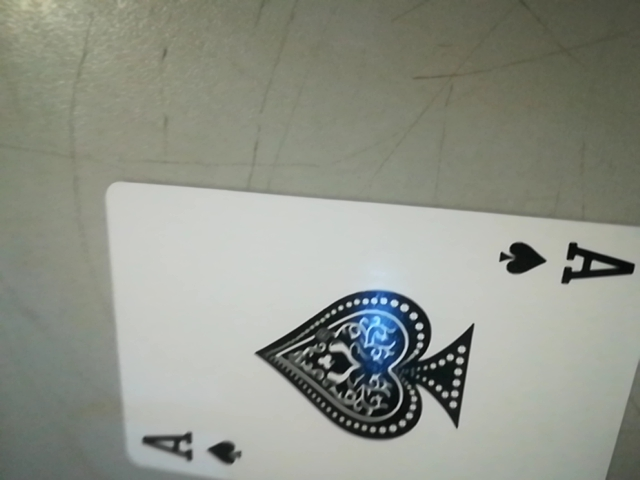ht a: (485, 229, 637, 290), (123, 423, 267, 479)
